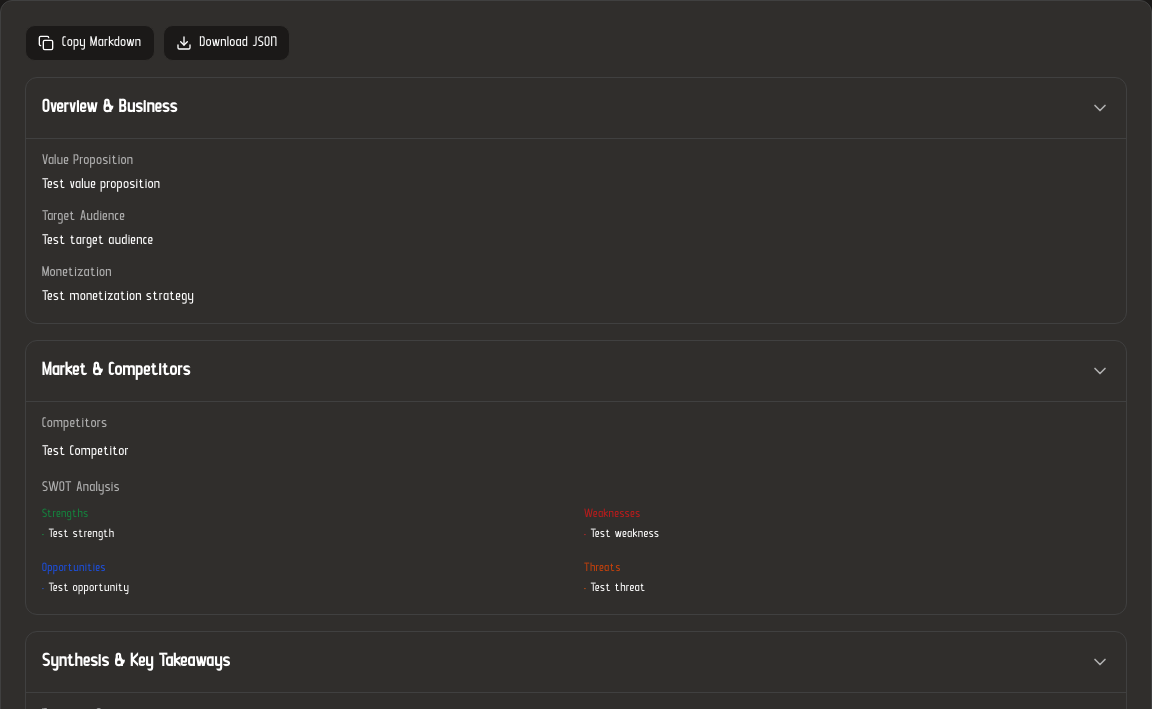
StructuredReport Section Collapsible Functionality › should collapse and expand overview section when clicked
Expected: the text "Test value proposition" is shown, [42,178,160,192]
Click to collapse
Click the button "Overview & Business". click: (110,108)
box: [26,78,1126,138]
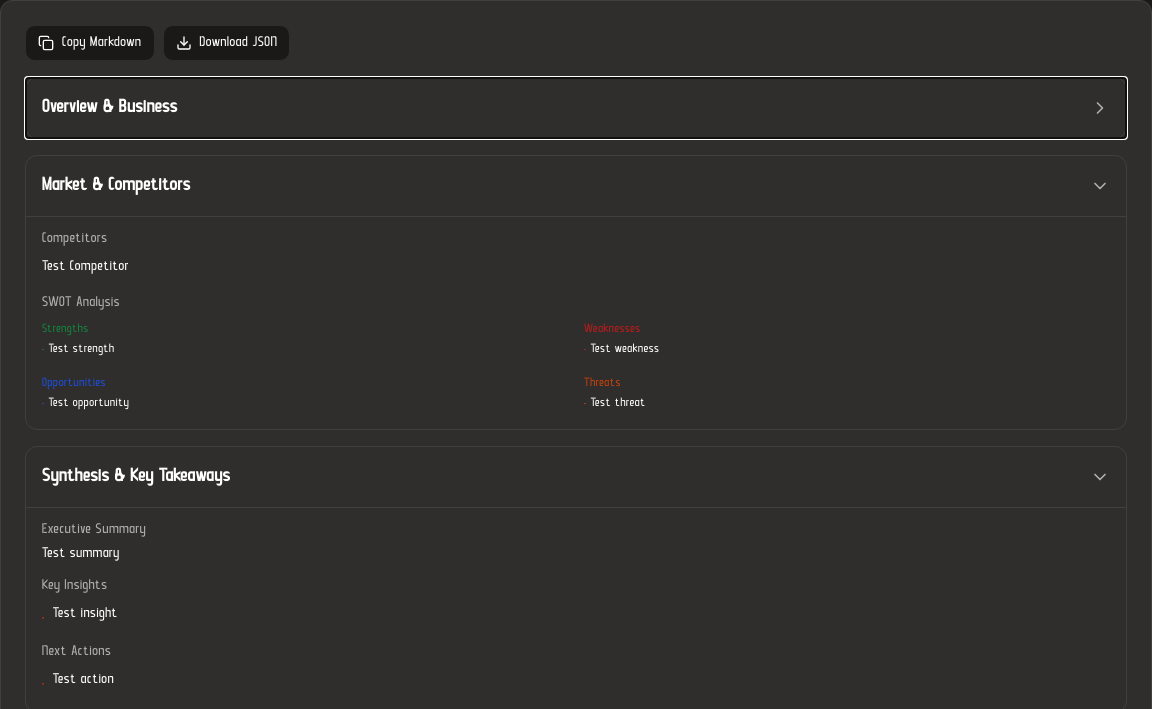
Now the text "Test value proposition" is gone
Click to expand again
Click the button "Overview & Business". click: (110,108)
box: [26,78,1126,138]
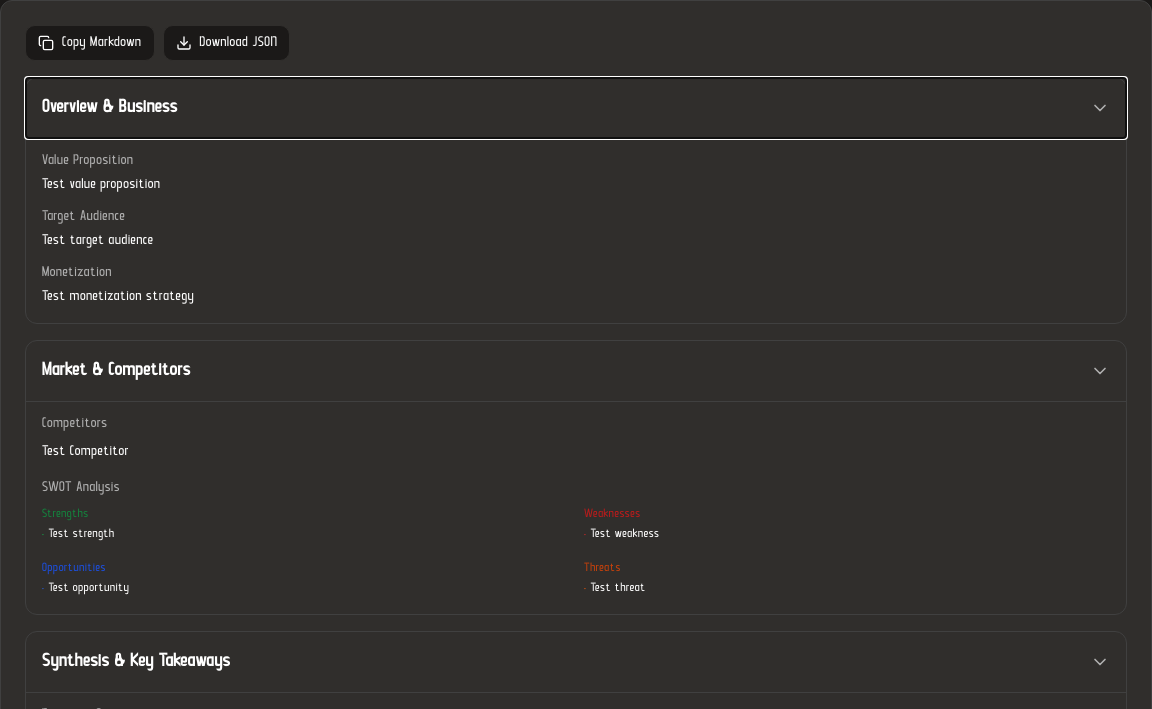
Now the text "Test value proposition" is shown, box [42,178,160,192]
